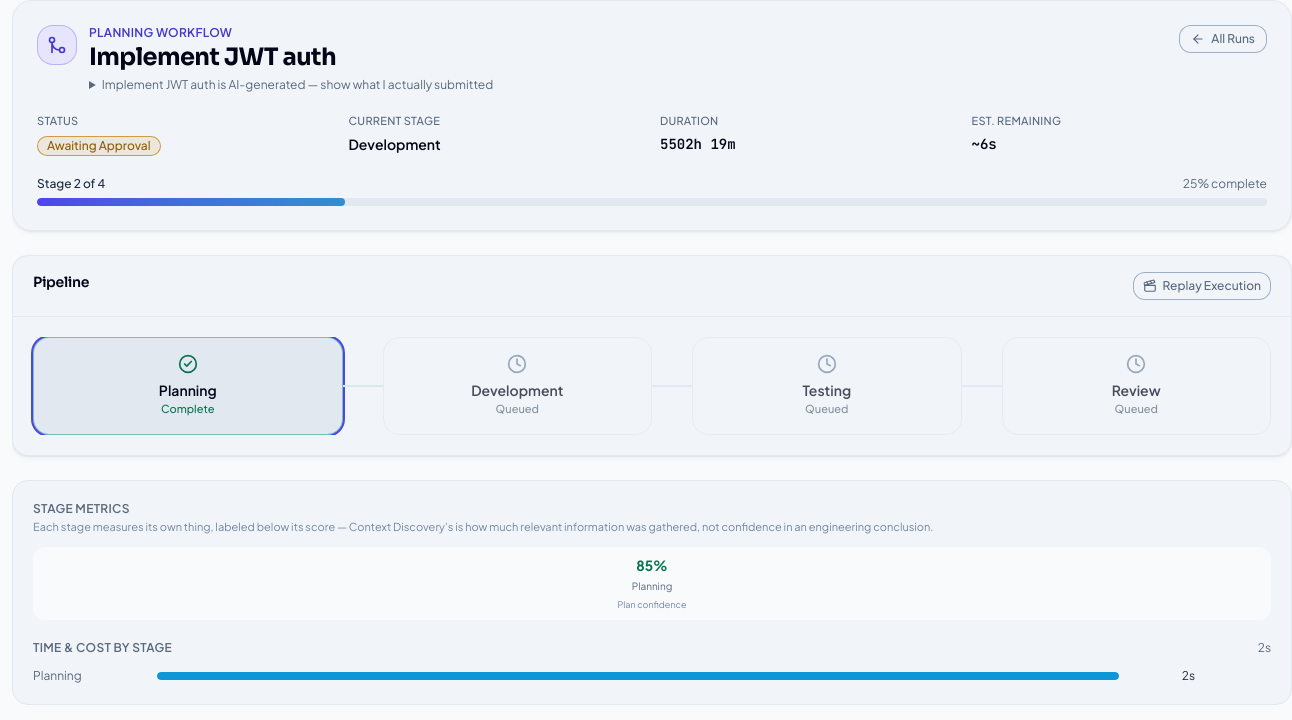
Test: WorkflowPage › reveals the Workflow Replay panel only after the toggle is clicked
Click the button "Replay Execution" at (1202, 286), box [1133,272,1271,300]
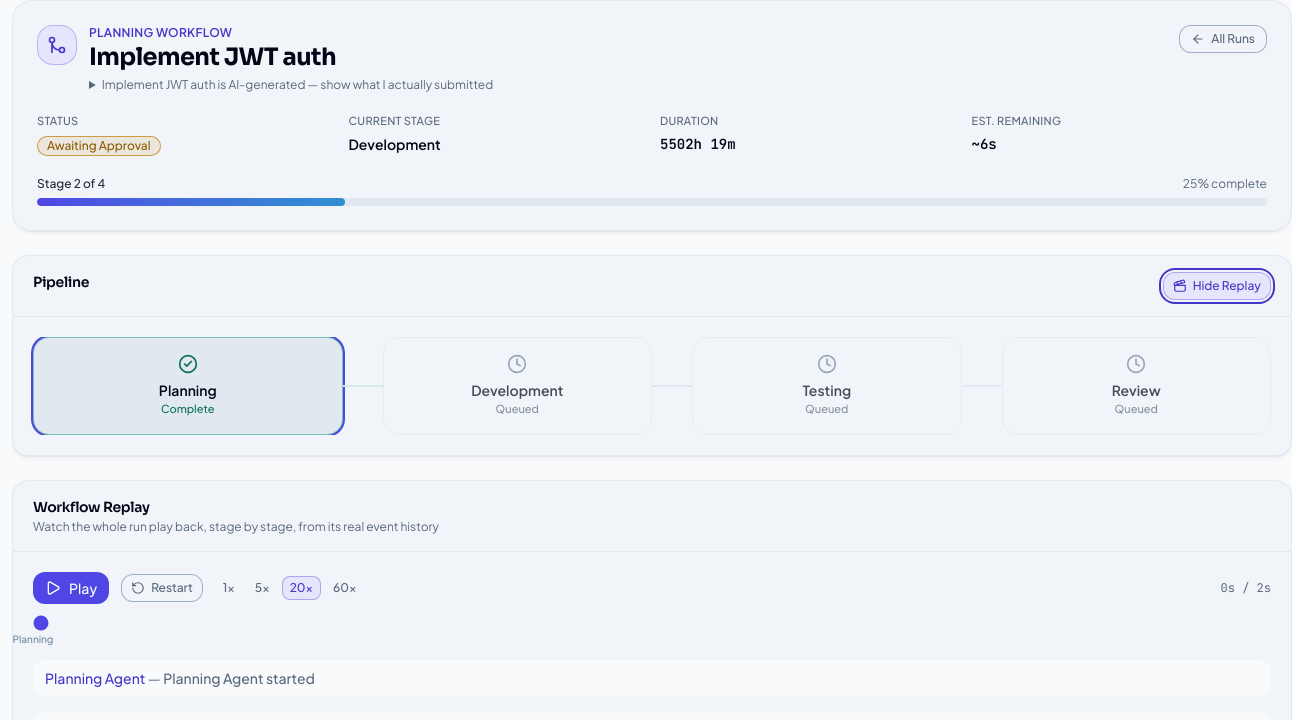
Expected: the slider named "Replay position" is shown, [33,620,1271,626]
